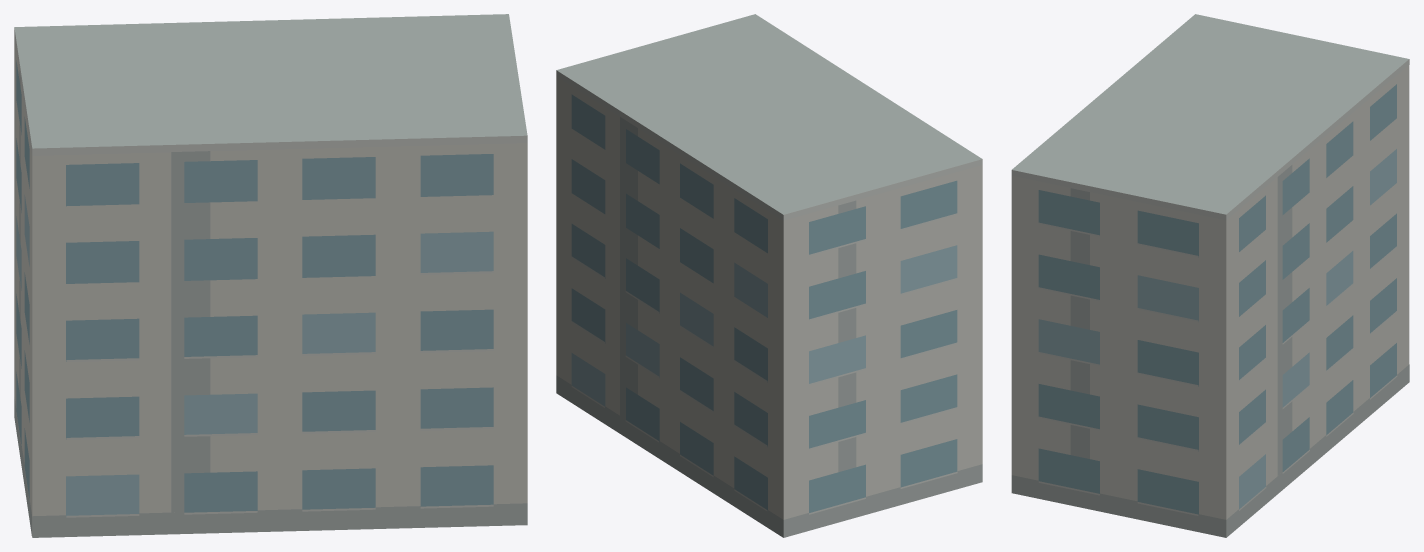
The model's file is survey-upis-32884296.glb.
3 views of the same model, side by side, from view 1: azimuth 30°, elevation 25°; view 2: azimuth 150°, elevation 25°; view 3: azimuth 270°, elevation 25° (orthographic). The views are drawn at different scales.
Visible parts, largest first — view 1: survey-upis-32884296.tmp; view 2: survey-upis-32884296.tmp; view 3: survey-upis-32884296.tmp.
Boxes of the visible parts, x1,y1,x2,y2 form: survey-upis-32884296.tmp: (14,14,527,537); survey-upis-32884296.tmp: (556,14,982,537); survey-upis-32884296.tmp: (1011,14,1409,537).
Bounding box in the file's own units: 17.58 × 13.2 × 14.73.
